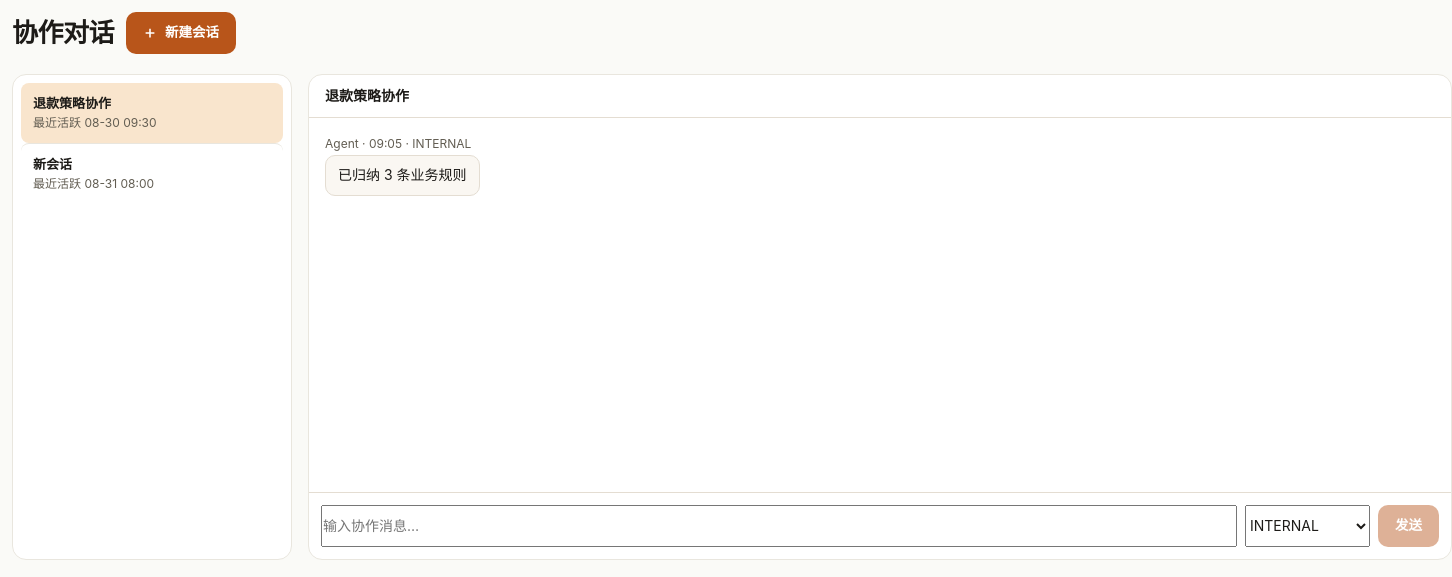
Test: ConversationPage（WP-03 前端接入） › 发送消息追加到当前会话消息流
Expected: the text "已归纳 3 条业务规则" is shown, [325,155,480,196]
Type "第一条协作消息" into the field named "消息内容".
click(779, 526); type("第一条协作消息")  # box [321,505,1237,547]
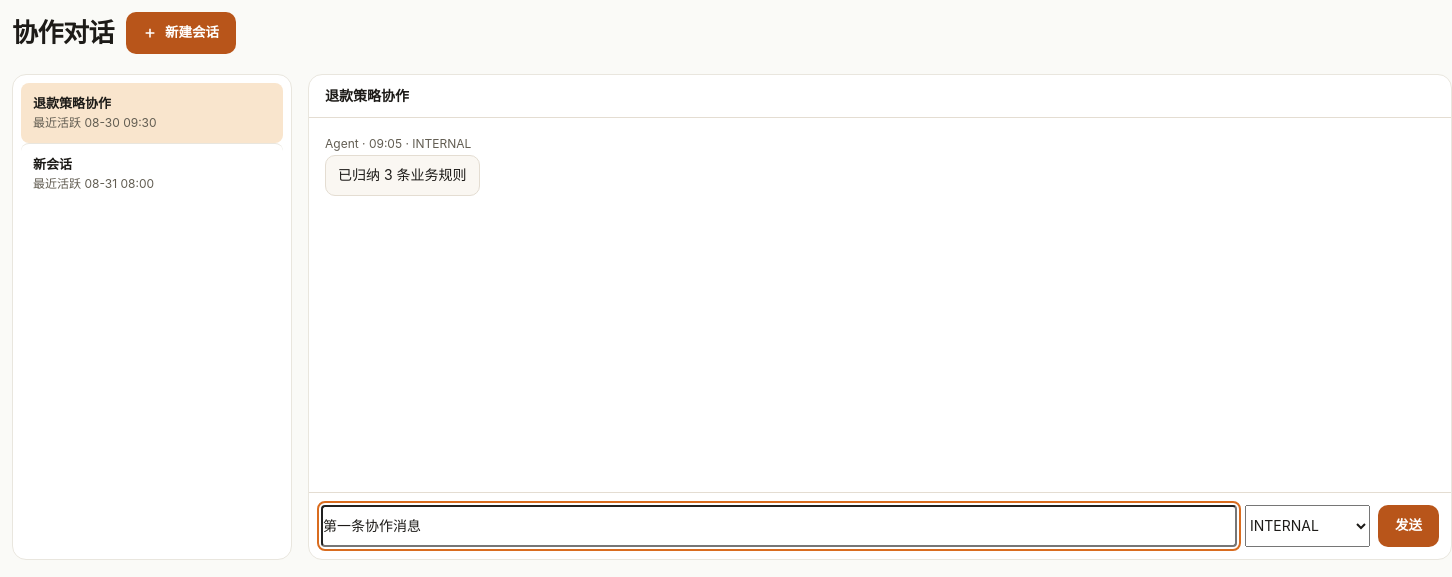
Click the button "发送".
click(1408, 526)  # box [1378,505,1439,547]
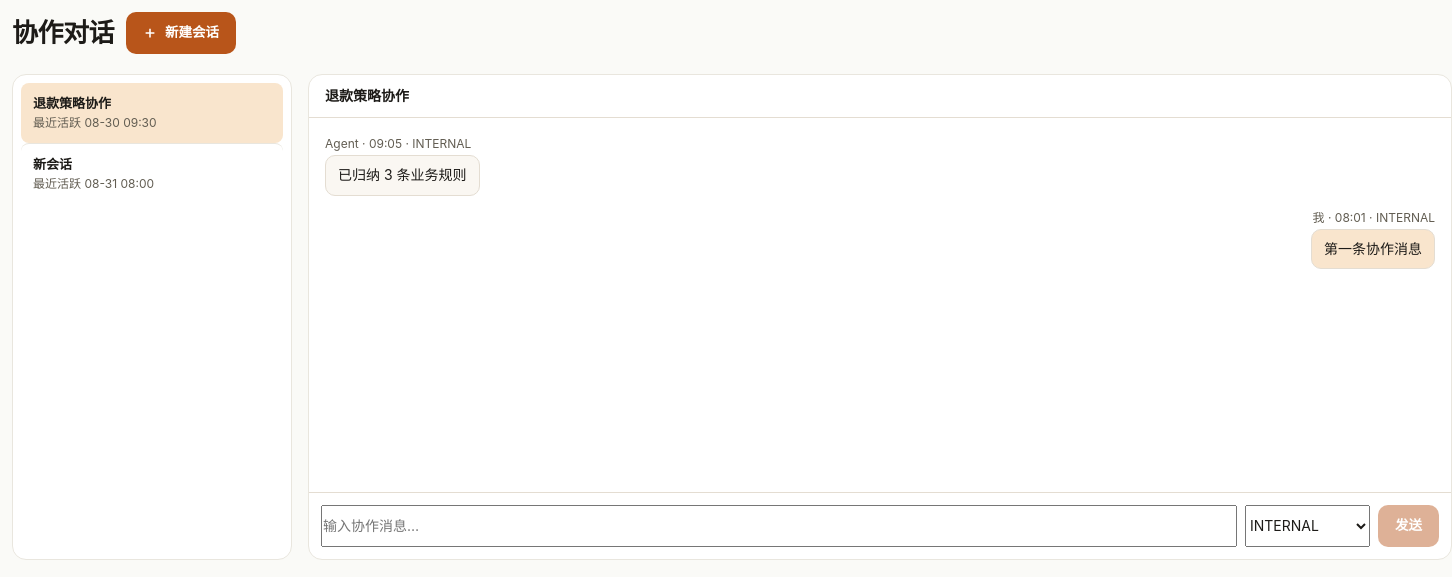
Expected: the text "第一条协作消息" is shown, [1311,229,1435,269]
